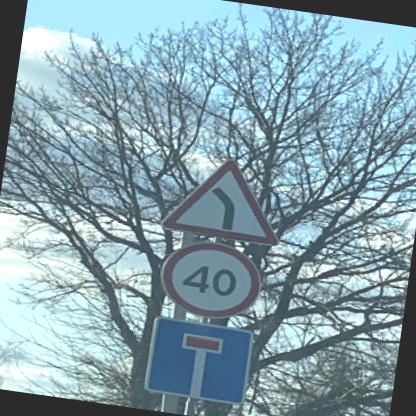speedlimit: (153, 234, 262, 322)
